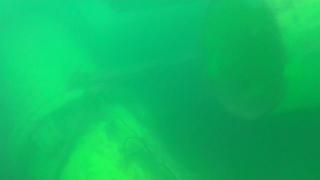pipe: (1, 1, 198, 179), (202, 1, 320, 122)
station: (54, 1, 202, 113)
